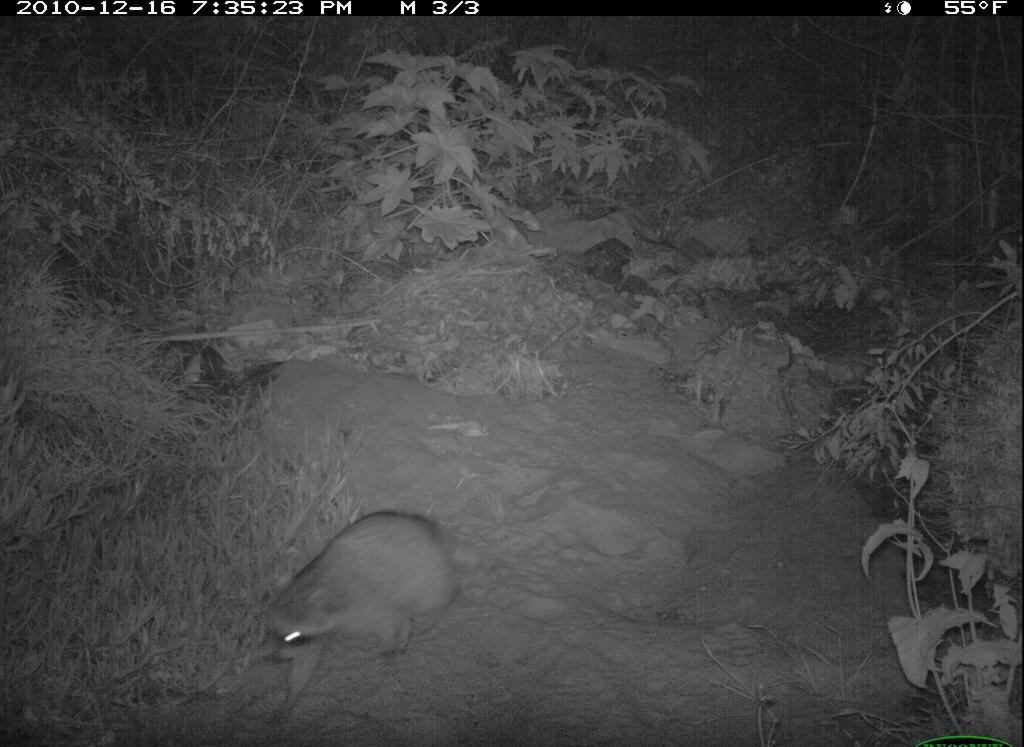raccoon: (218, 505, 461, 693)
